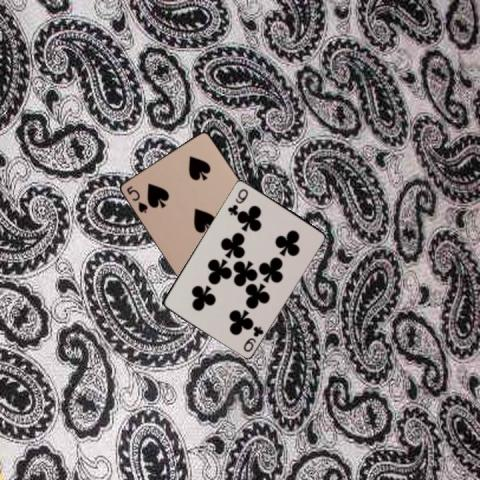5s: (124, 182, 149, 214)
9c: (225, 185, 249, 217), (240, 323, 265, 353)
